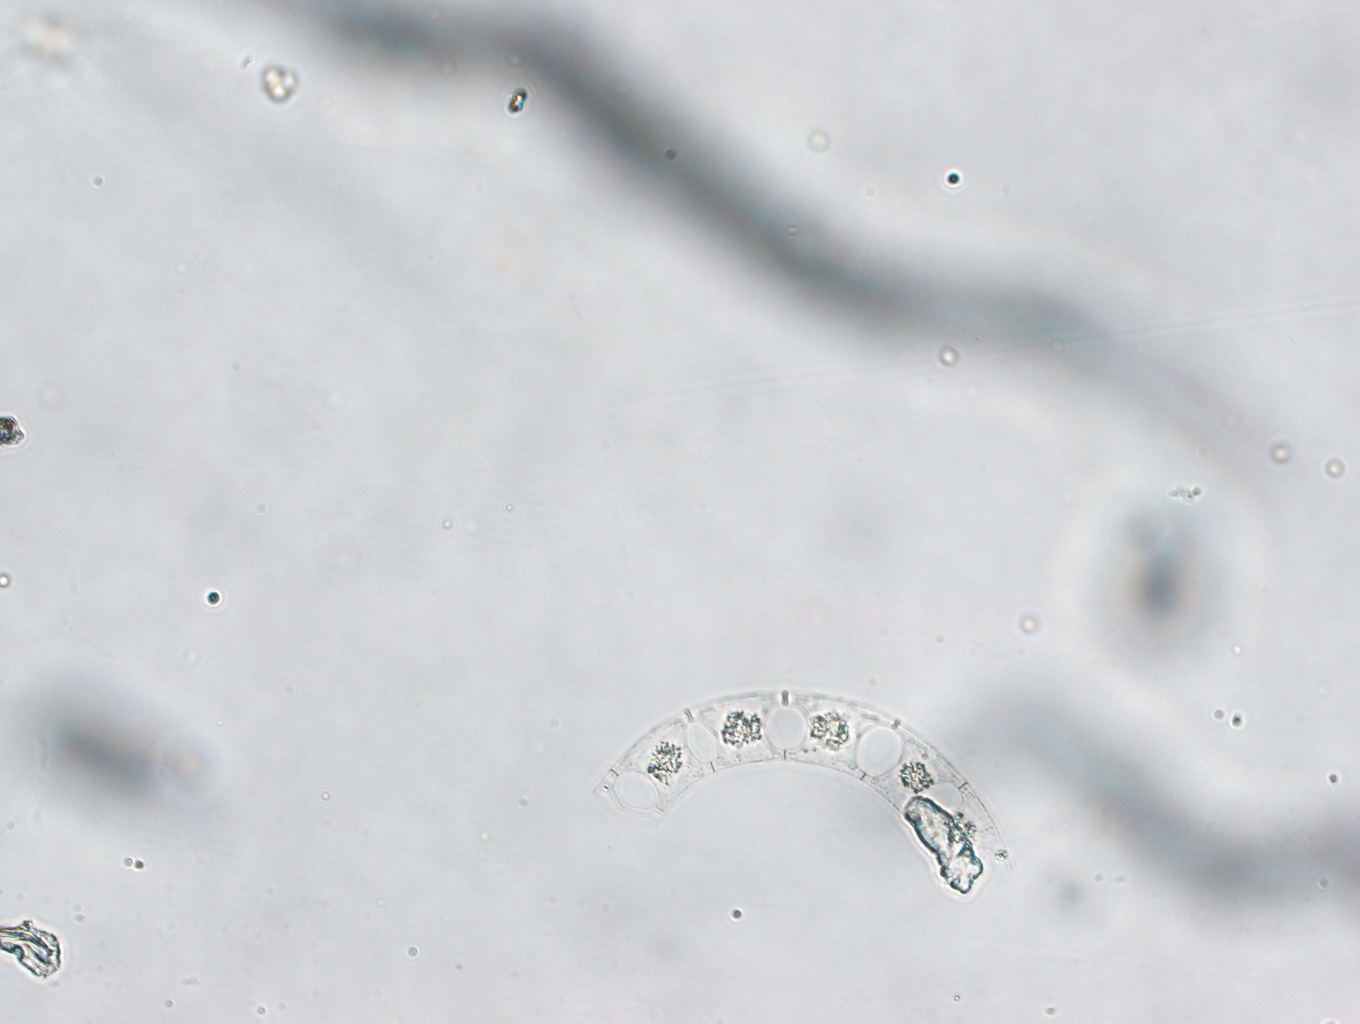eucampia: (586, 685, 1012, 879)
